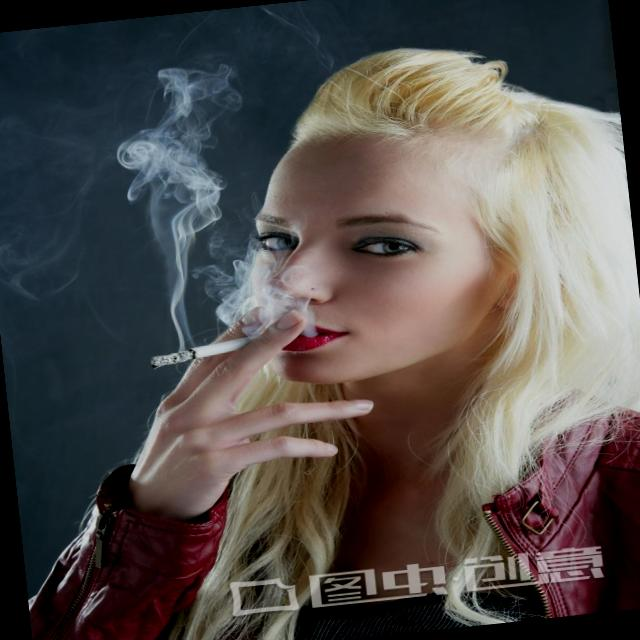cigarette: (144, 332, 242, 373)
